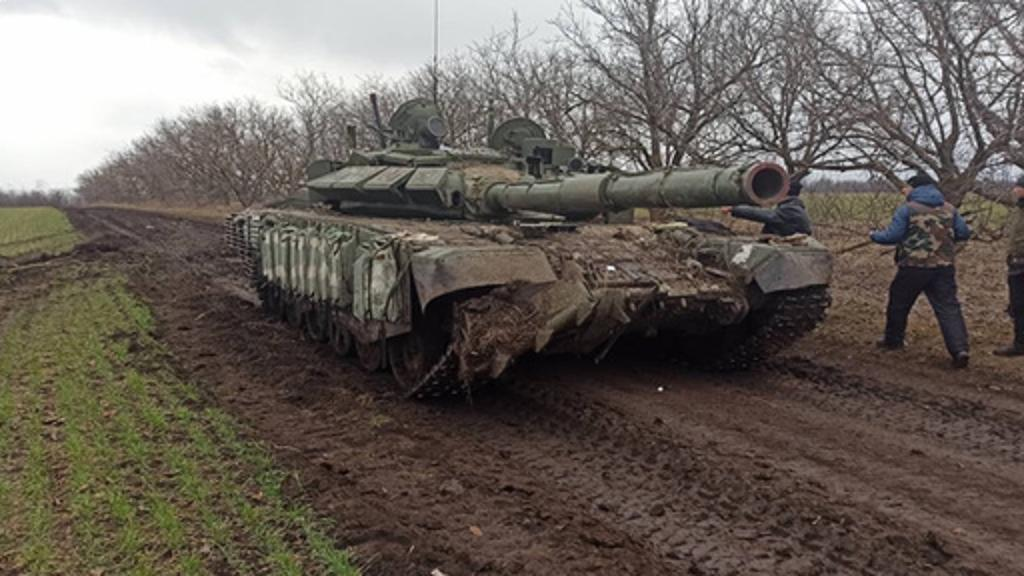TANK: (230, 112, 834, 402)
